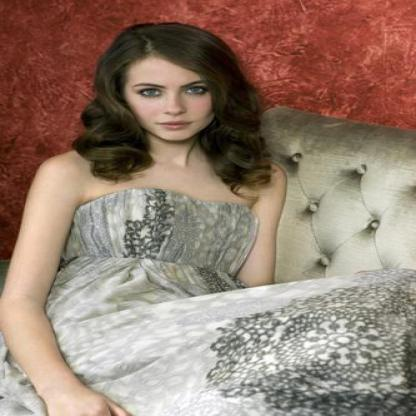long-hair: (66, 142, 283, 174)
